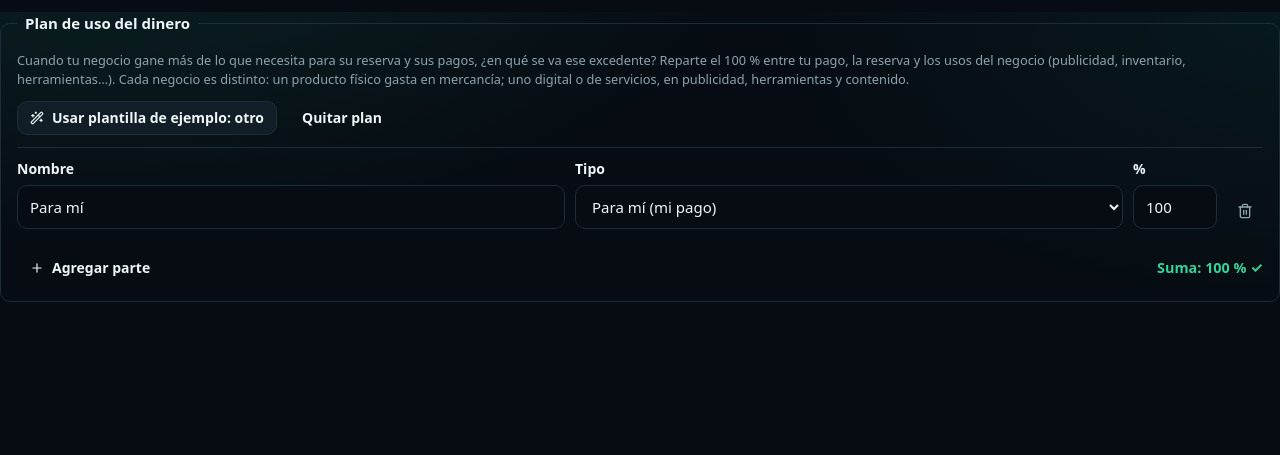
it: PlanEditor › permite agregar y quitar partes y quitar el plan completo
This screenshot has width=1280, height=455.
Step 1. Click the button "Agregar parte" → (90, 268), box [17,251,163,285]
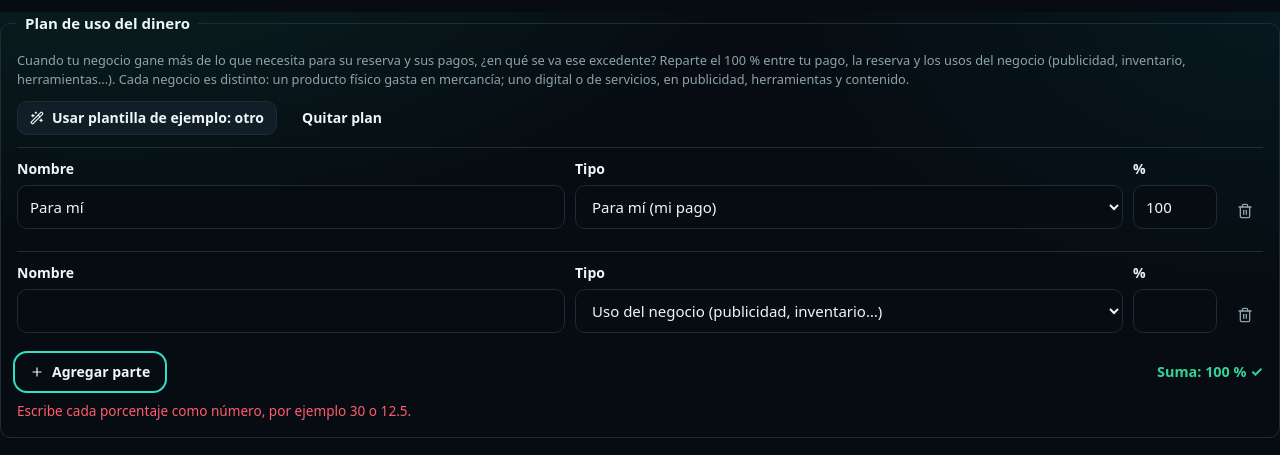
Expected: the number of fields labelled "Nombre" is 2, [17,185,565,229]; [17,289,565,333]
Step 2. Click the button "Quitar plan" → (342, 118), box [289,101,395,135]
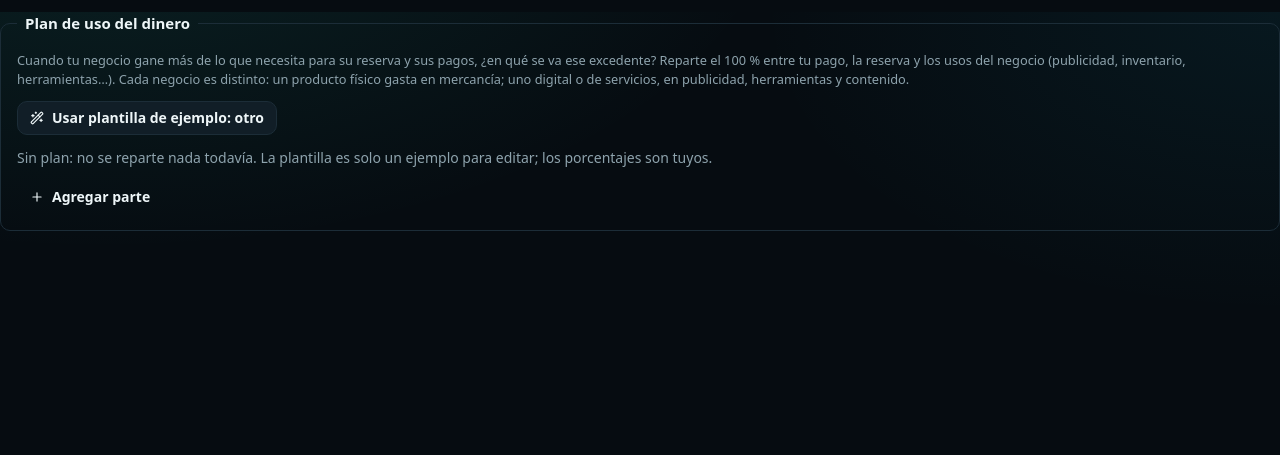
Expected: the text "Sin plan" is shown, [17,148,712,167]
